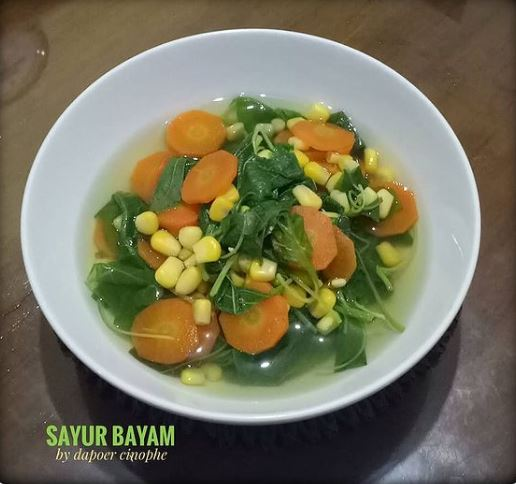Sayur Bayam: (87, 77, 447, 385)
